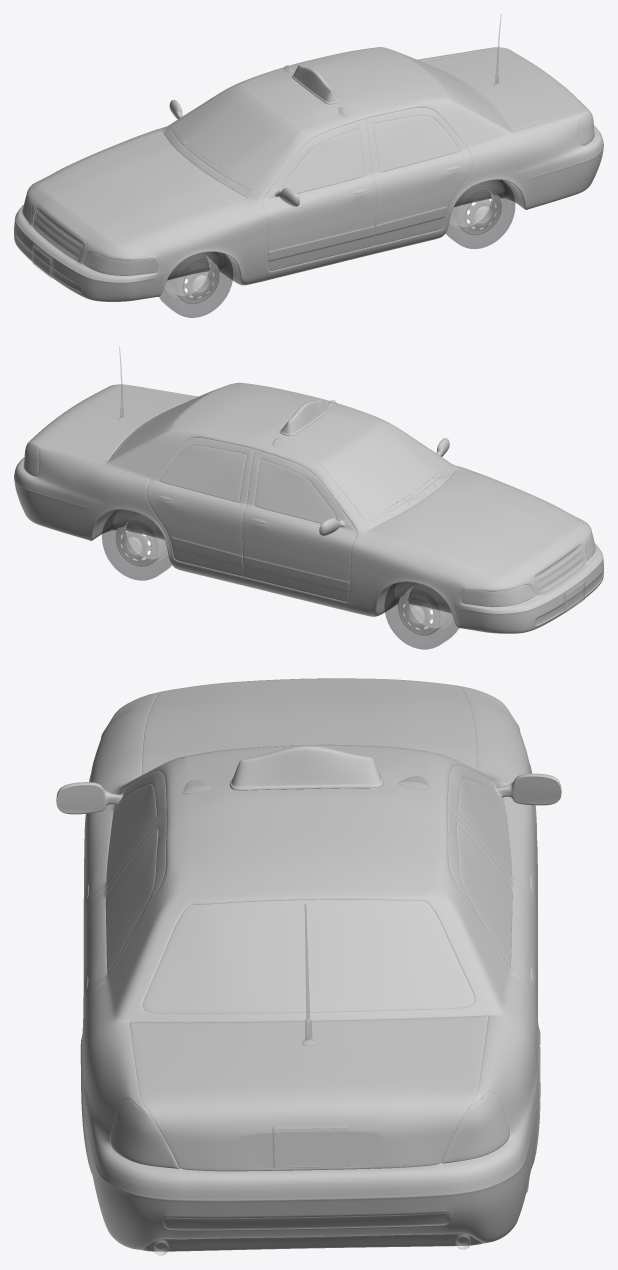
The model's file is taxi.gltf.
3 views of the same model, one above another, from view 1: azimuth 30°, elevation 25°; view 2: azimuth 150°, elevation 25°; view 3: azimuth 270°, elevation 25° (orthographic). The views are drawn at different scales.
Visible parts, largest first — view 1: 13914_Taxi_v2_L1; view 2: 13914_Taxi_v2_L1; view 3: 13914_Taxi_v2_L1.
Part boxes in pixels (bbox=[...]): 13914_Taxi_v2_L1: bbox=[14, 14, 603, 317]; 13914_Taxi_v2_L1: bbox=[14, 346, 603, 649]; 13914_Taxi_v2_L1: bbox=[56, 678, 561, 1255].
Bounding box in the file's own units: 15.33 × 5.01 × 6.37.
